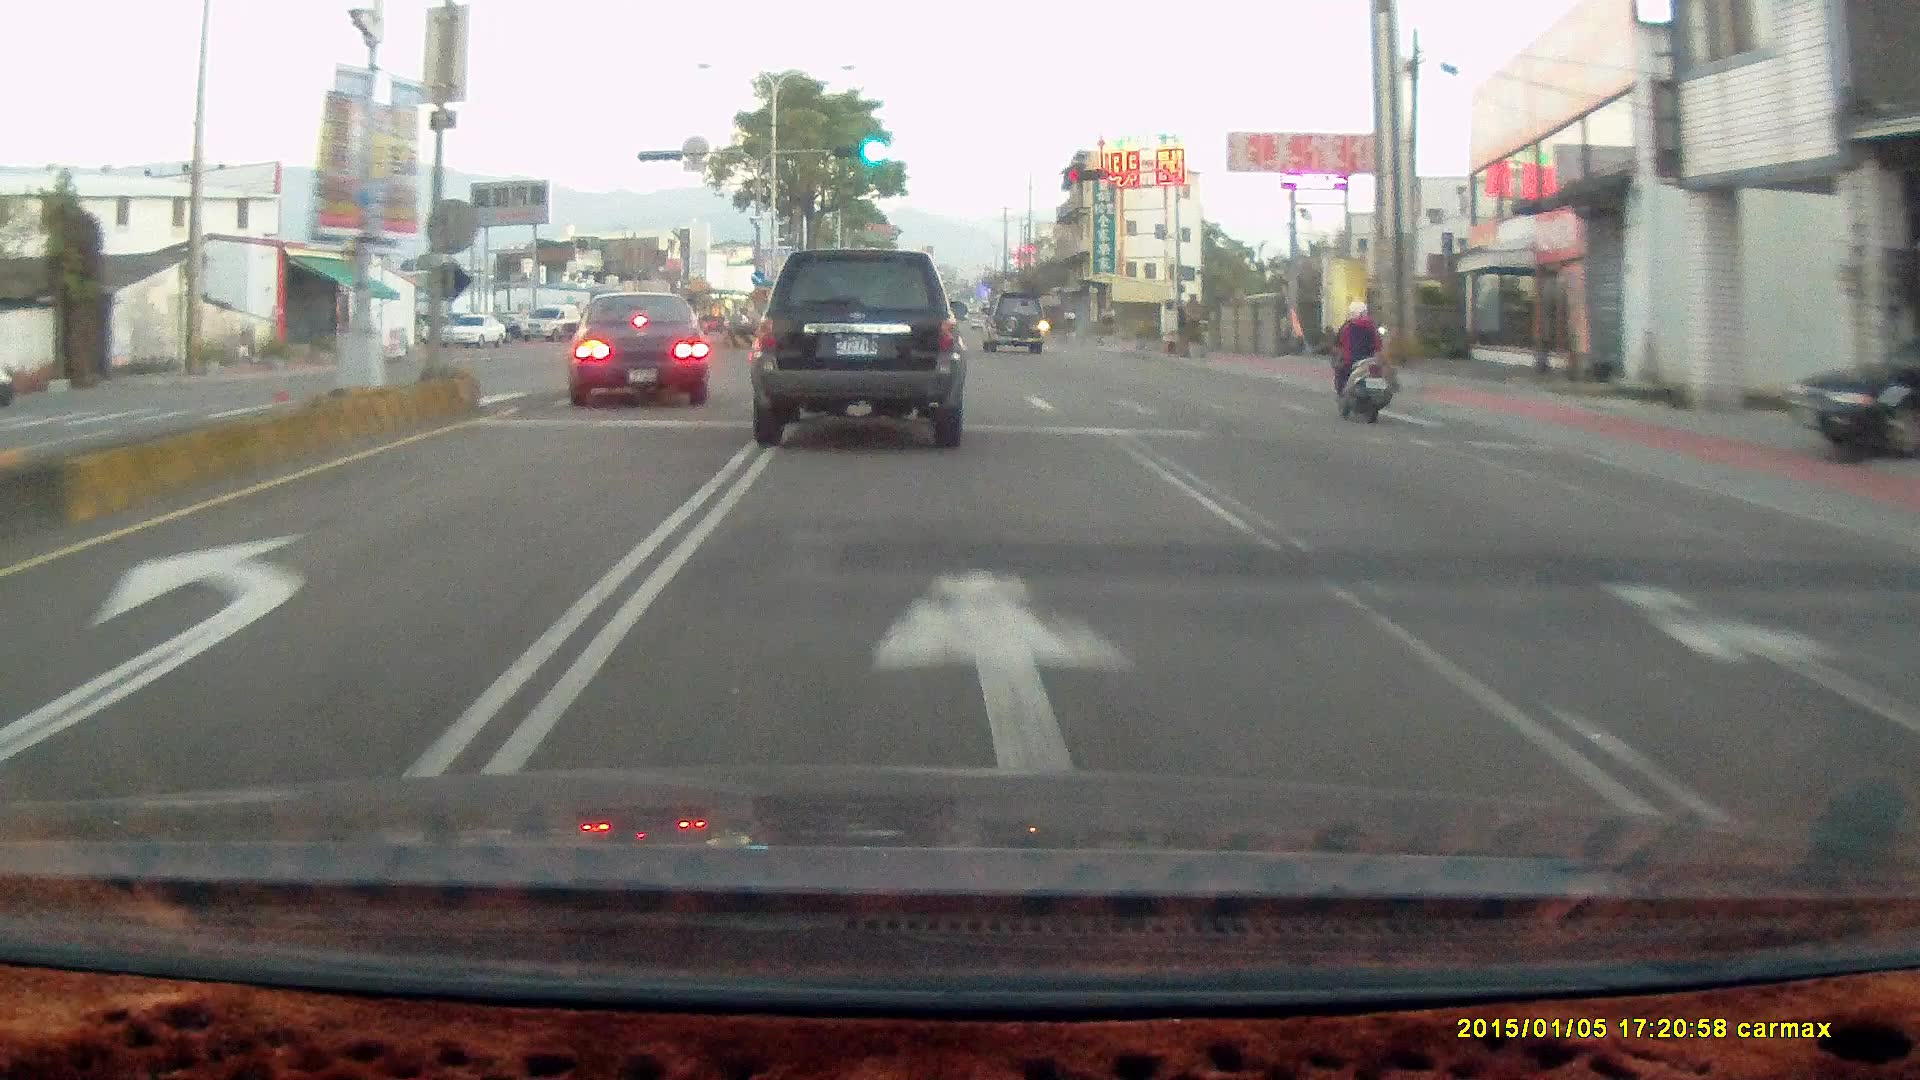rider: (1316, 285, 1406, 434), (1323, 297, 1391, 422)
vehicle: (745, 235, 970, 442), (745, 250, 965, 447), (563, 286, 715, 409), (1784, 327, 1919, 461), (1791, 327, 1920, 465), (559, 290, 709, 405), (980, 289, 1050, 355), (978, 289, 1045, 354), (437, 312, 506, 347), (520, 306, 584, 341)
